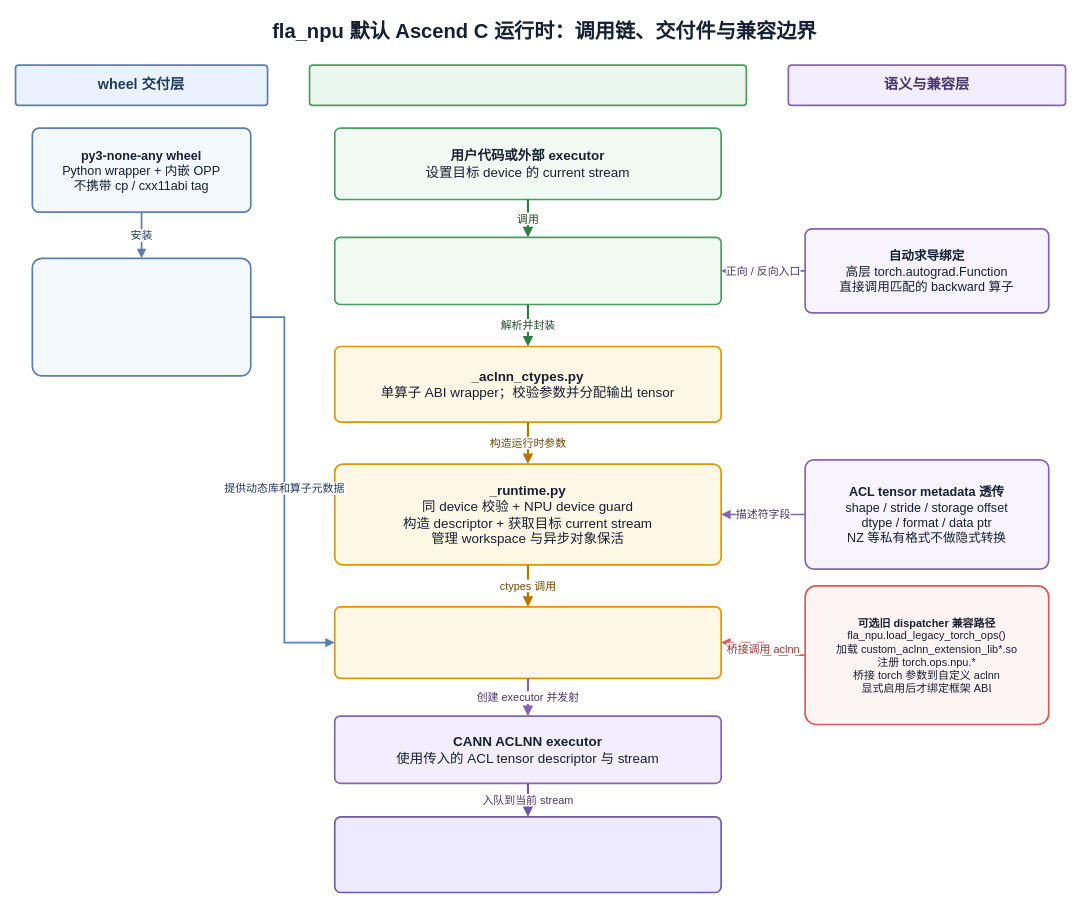
This 1080x907 diagram has some shape labels left out. The shapes that lost their labels are listed below. From the top down, each one's centre as x and y in pixels, then its label:
(x=527, y=85): 默认调用链（自上而下）
(x=527, y=270): fla_npu.ops.ascendc.<op> 稳定公开接口
(x=141, y=316): site-packages/fla_npu/opp vendors/fla_npu_transformer 完整算子交付件
(x=527, y=642): libcust_opapi.so aclnn*GetWorkspaceSize / aclnn*
(x=527, y=854): NPU stream 与 kernel 同 stream 依靠 FIFO 保证数据依赖 跨 stream 由调用方用 event 建立依赖
